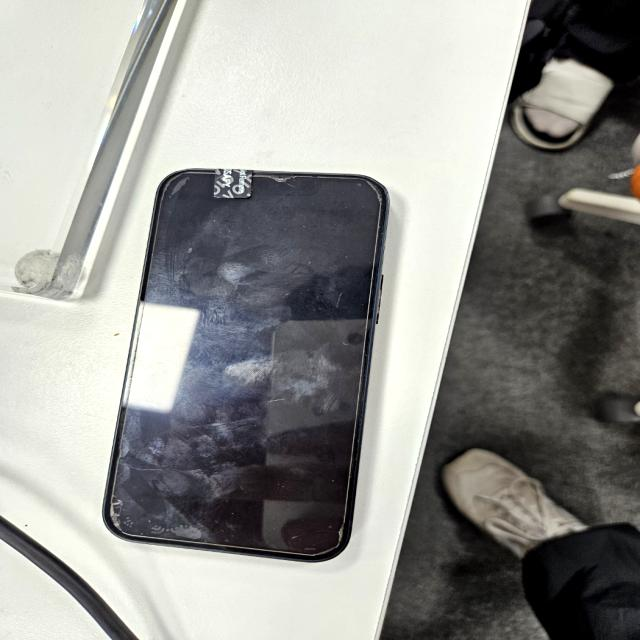phone: (104, 167, 392, 565)
removed_sticker: (213, 168, 250, 197)
